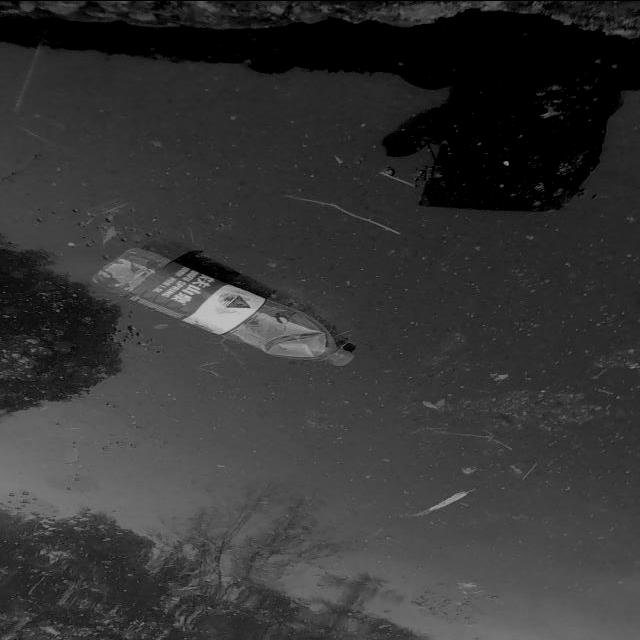bottle: (62, 234, 410, 384)
